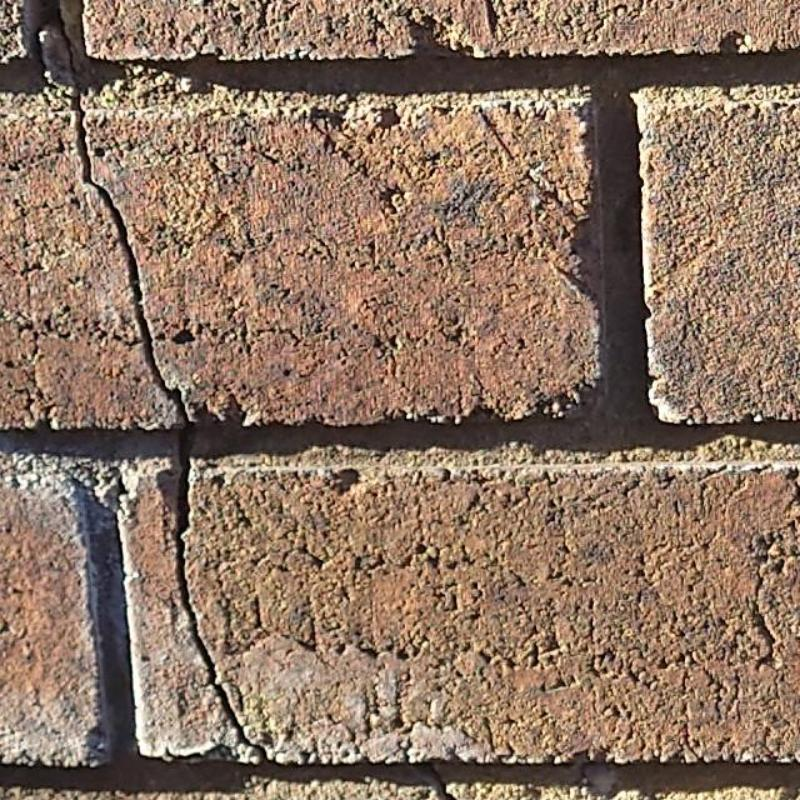pothole: (71, 90, 190, 428), (175, 426, 245, 742), (34, 22, 57, 89), (56, 0, 76, 72), (425, 761, 459, 799)
